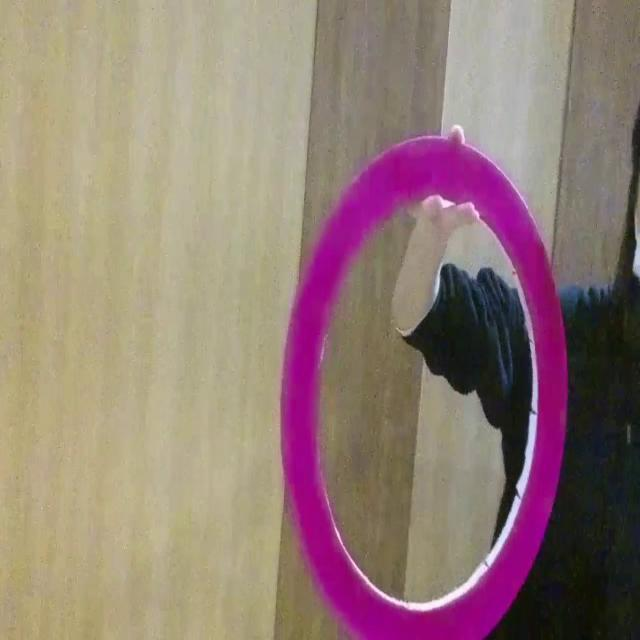Circle: (278, 145, 564, 640)
